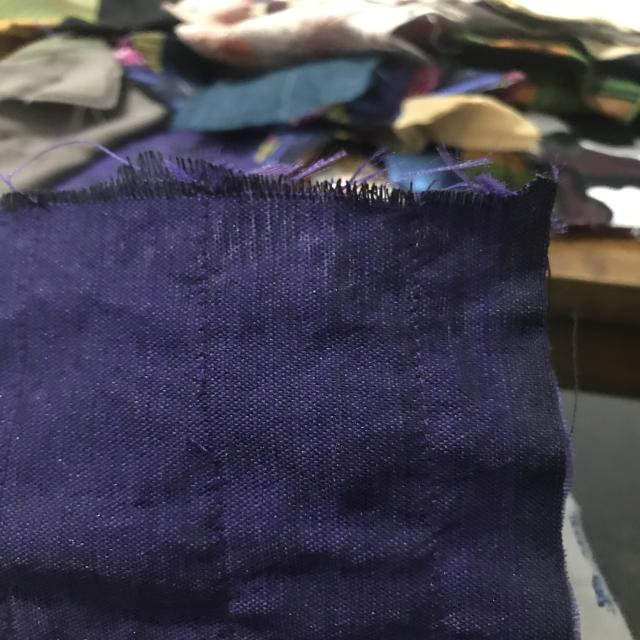broken: (175, 369, 244, 467)
